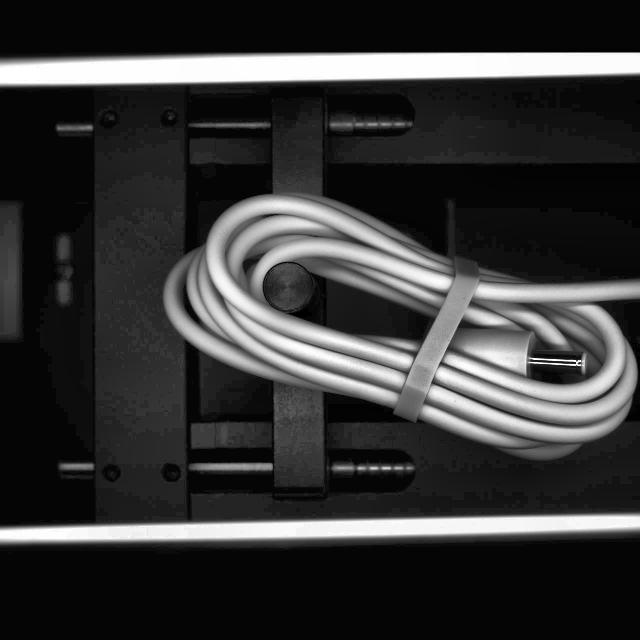Cable: (159, 190, 640, 468)
